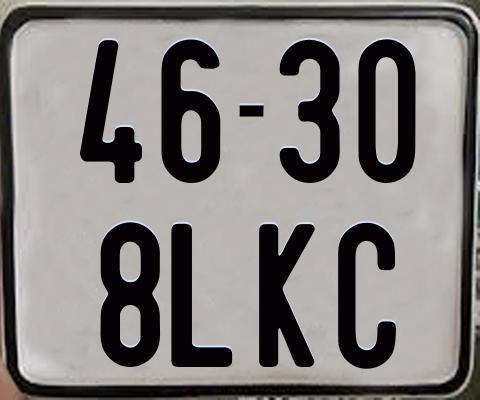0: (357, 39, 420, 189)
3: (276, 38, 339, 187)
4: (77, 38, 144, 181)
6: (159, 36, 221, 183)
8: (98, 221, 163, 372)
C: (337, 222, 401, 374)
K: (258, 221, 318, 366)
L: (169, 223, 233, 368)
